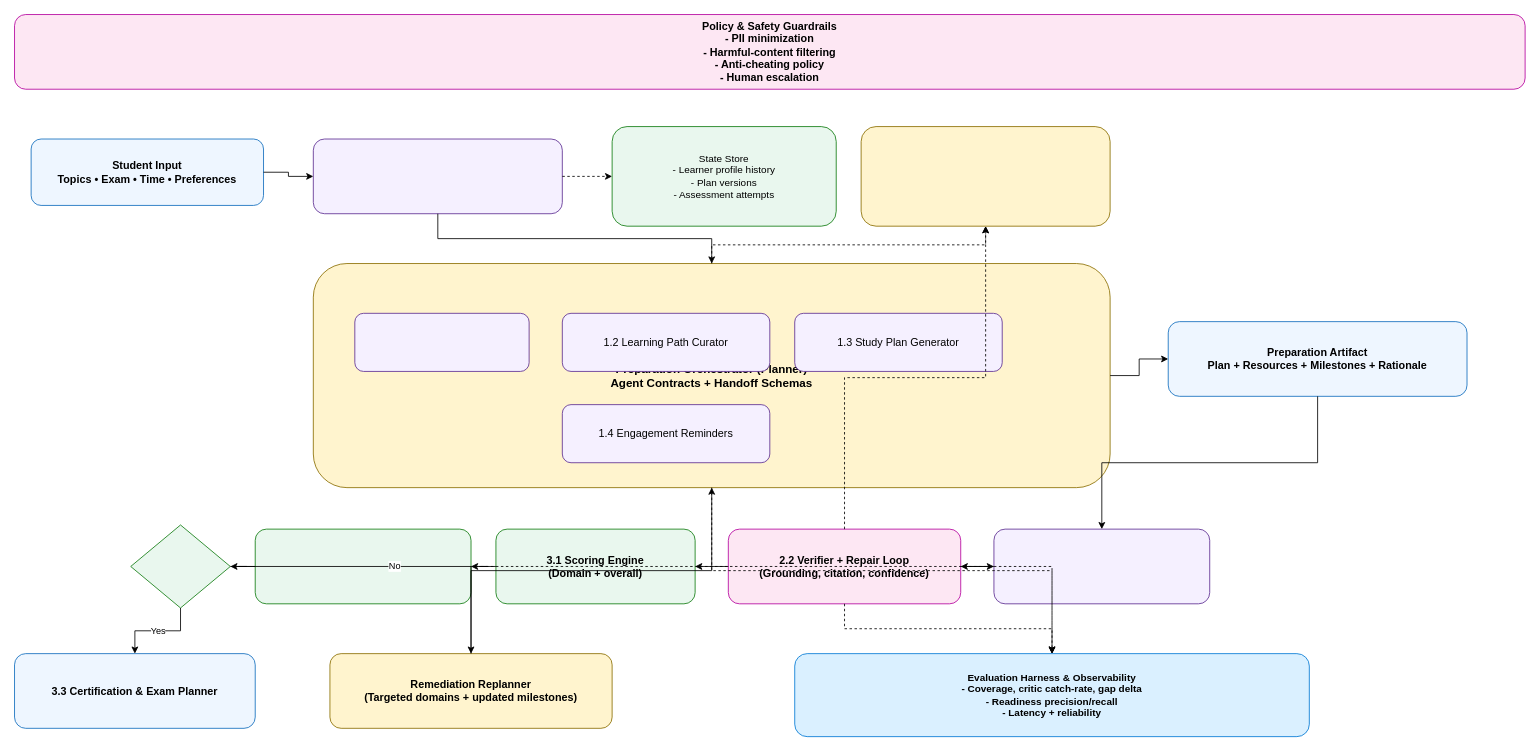
Some shapes in this 1540 by 751 pixel diagram are drawn without their labels. Each missing label, with the centre of its shape:
"1.1 Syllabus Mapper" goes at (x=441, y=341).
"2.1 Assessment Builder" goes at (x=1101, y=566).
"3.2 Decision Policy Ready if overall ≥ 75 and all domains ≥ 70" goes at (x=362, y=566).
"Learner Intake & Profiling (Structured Profile + Constraints)" goes at (x=437, y=176).
"Ready?" goes at (x=180, y=566).
"Reasoning Trace Log - Agent decisions - Evidence links - Confidence + thresholds" goes at (x=985, y=176).
